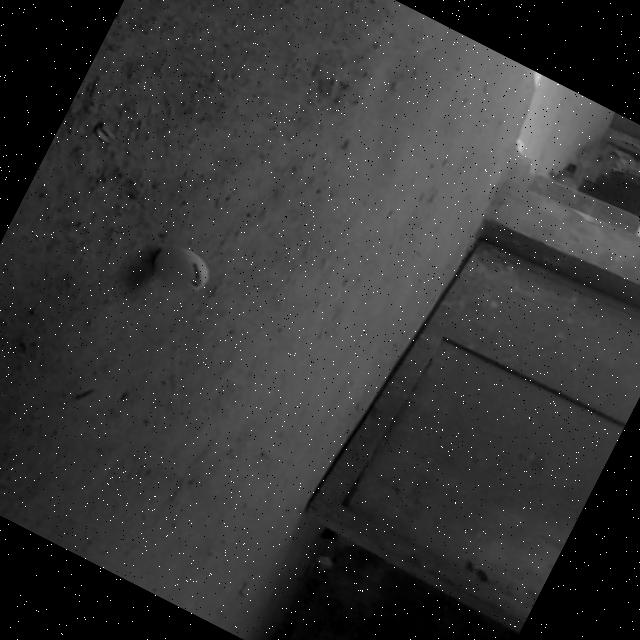ping-pong-ball: (147, 238, 216, 300)
